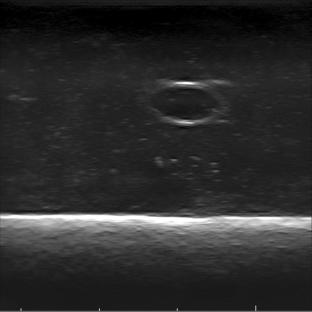vessel: (148, 80, 219, 125)
